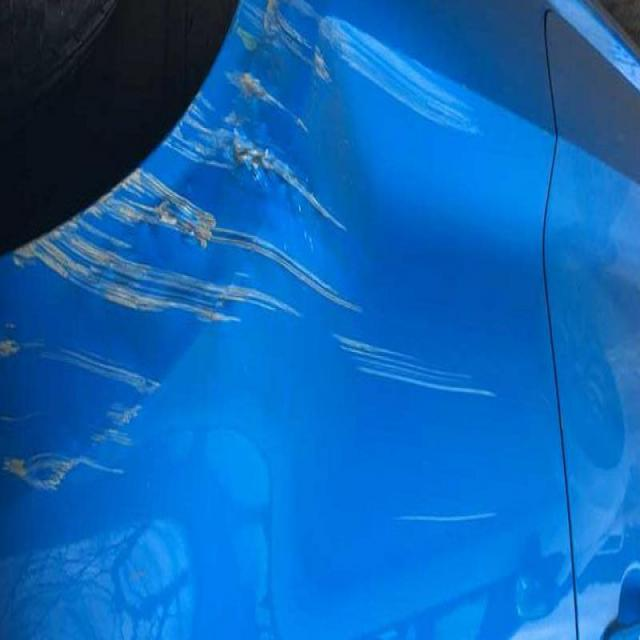scratch: (24, 31, 488, 300), (0, 337, 185, 539), (314, 321, 504, 423), (386, 494, 510, 534)
